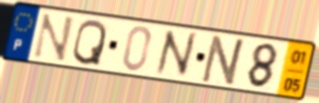0: (120, 25, 153, 73)
8: (244, 42, 281, 91)
N: (198, 33, 250, 88), (30, 12, 77, 64), (153, 28, 199, 79)
Q: (70, 18, 109, 68)
